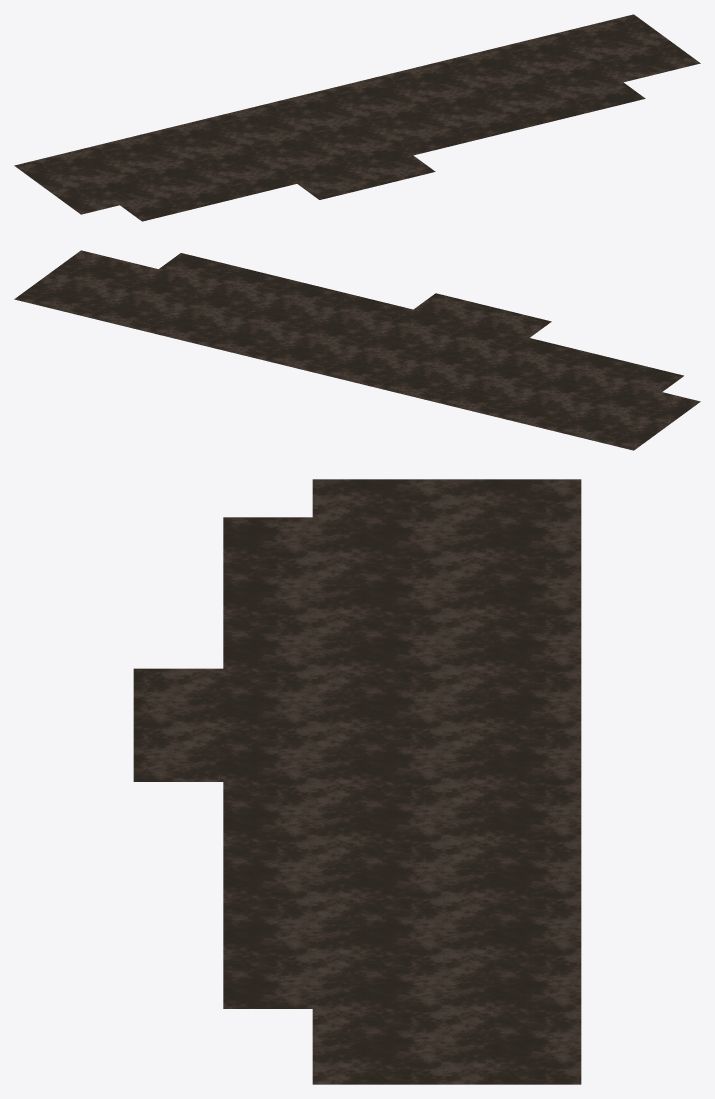
File: floor_2_-7.glb
3 views of the same model, one above another, from view 1: azimuth 30°, elevation 25°; view 2: azimuth 150°, elevation 25°; view 3: azimuth 270°, elevation 25° (orthographic). The views are drawn at different scales.
Parts seen in each view (by area): view 1: floor_2_-7; view 2: floor_2_-7; view 3: floor_2_-7.
Part boxes in pixels (x1,y1,x2,y2): floor_2_-7: [14, 14, 700, 221]; floor_2_-7: [14, 250, 700, 450]; floor_2_-7: [133, 479, 581, 1084].
Size of the model in its own units: 64 by 0 by 20.
Materials: 1 (1 with a texture image).
